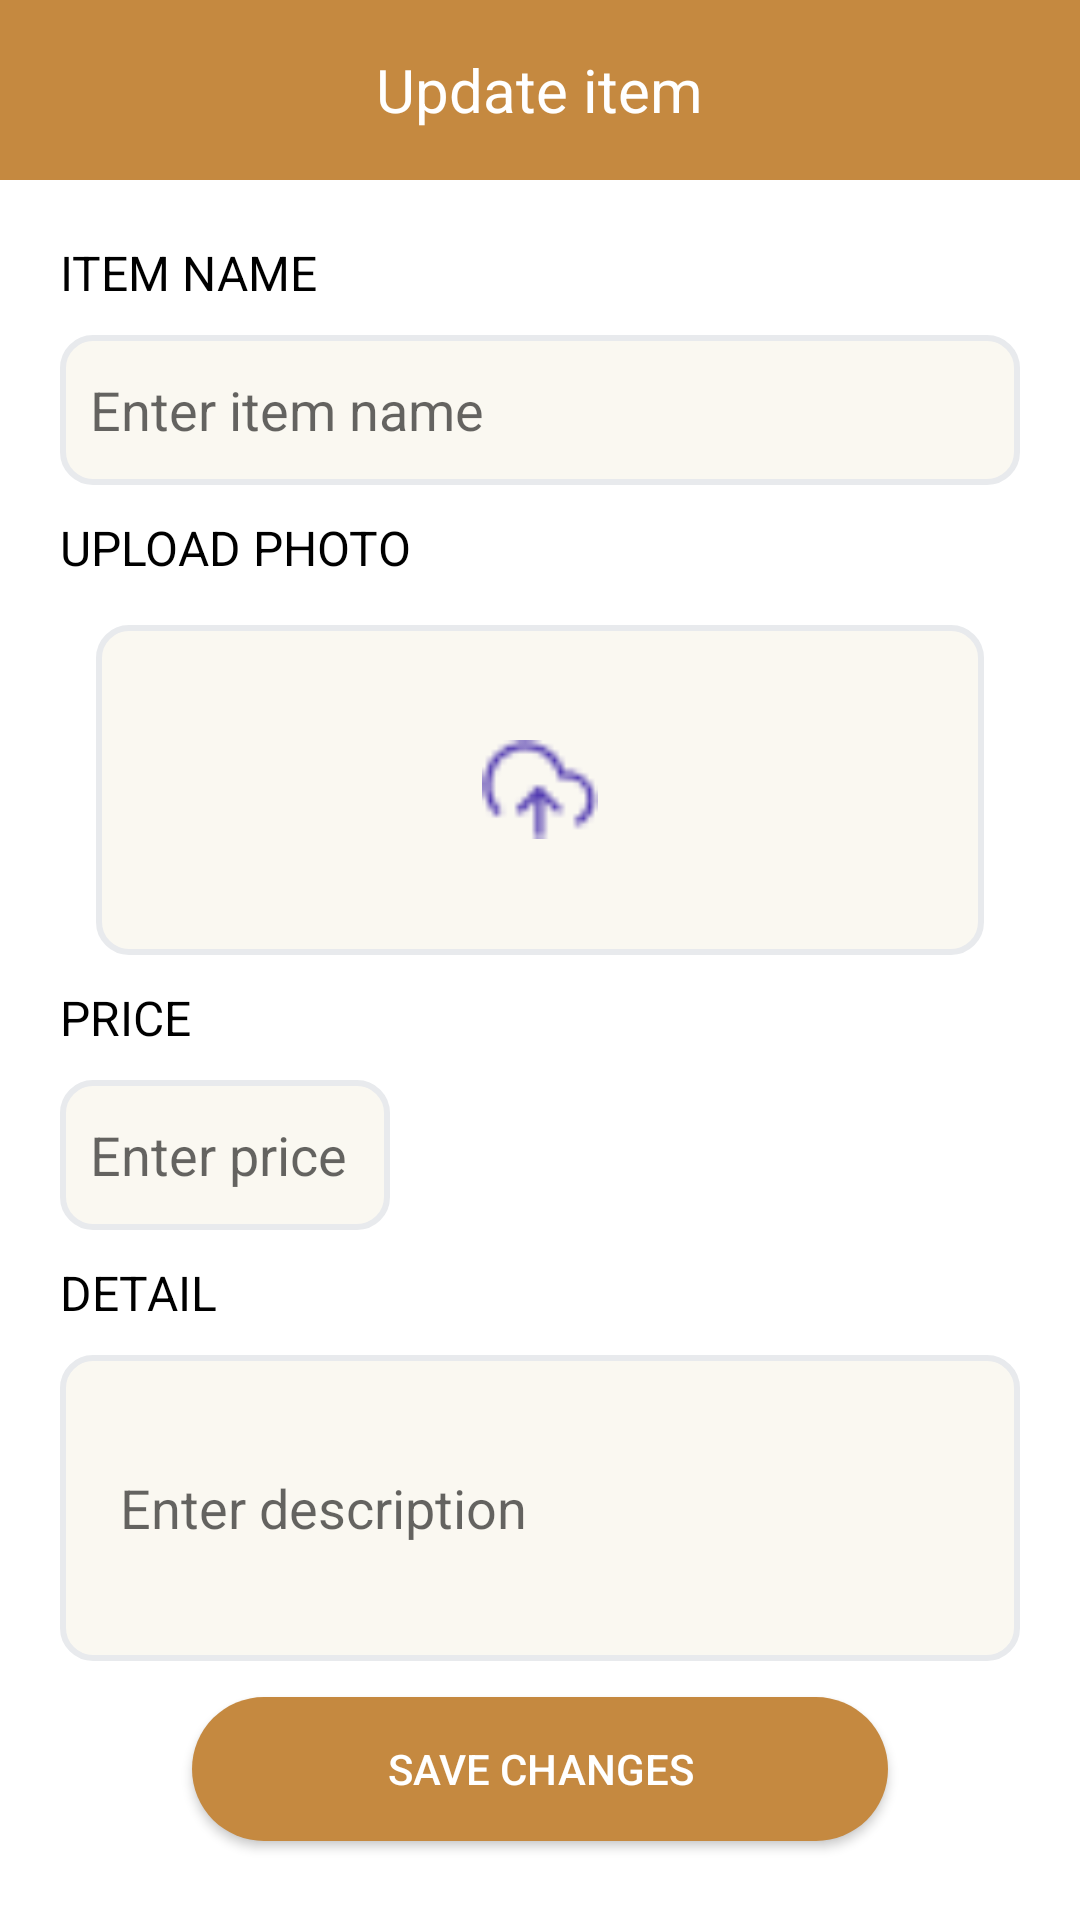

Screen size 1080px x 1920px. Icon name, then its box in pixels as bbox(x1, y1, x2, y2):
upload: bbox(482, 740, 598, 839)
